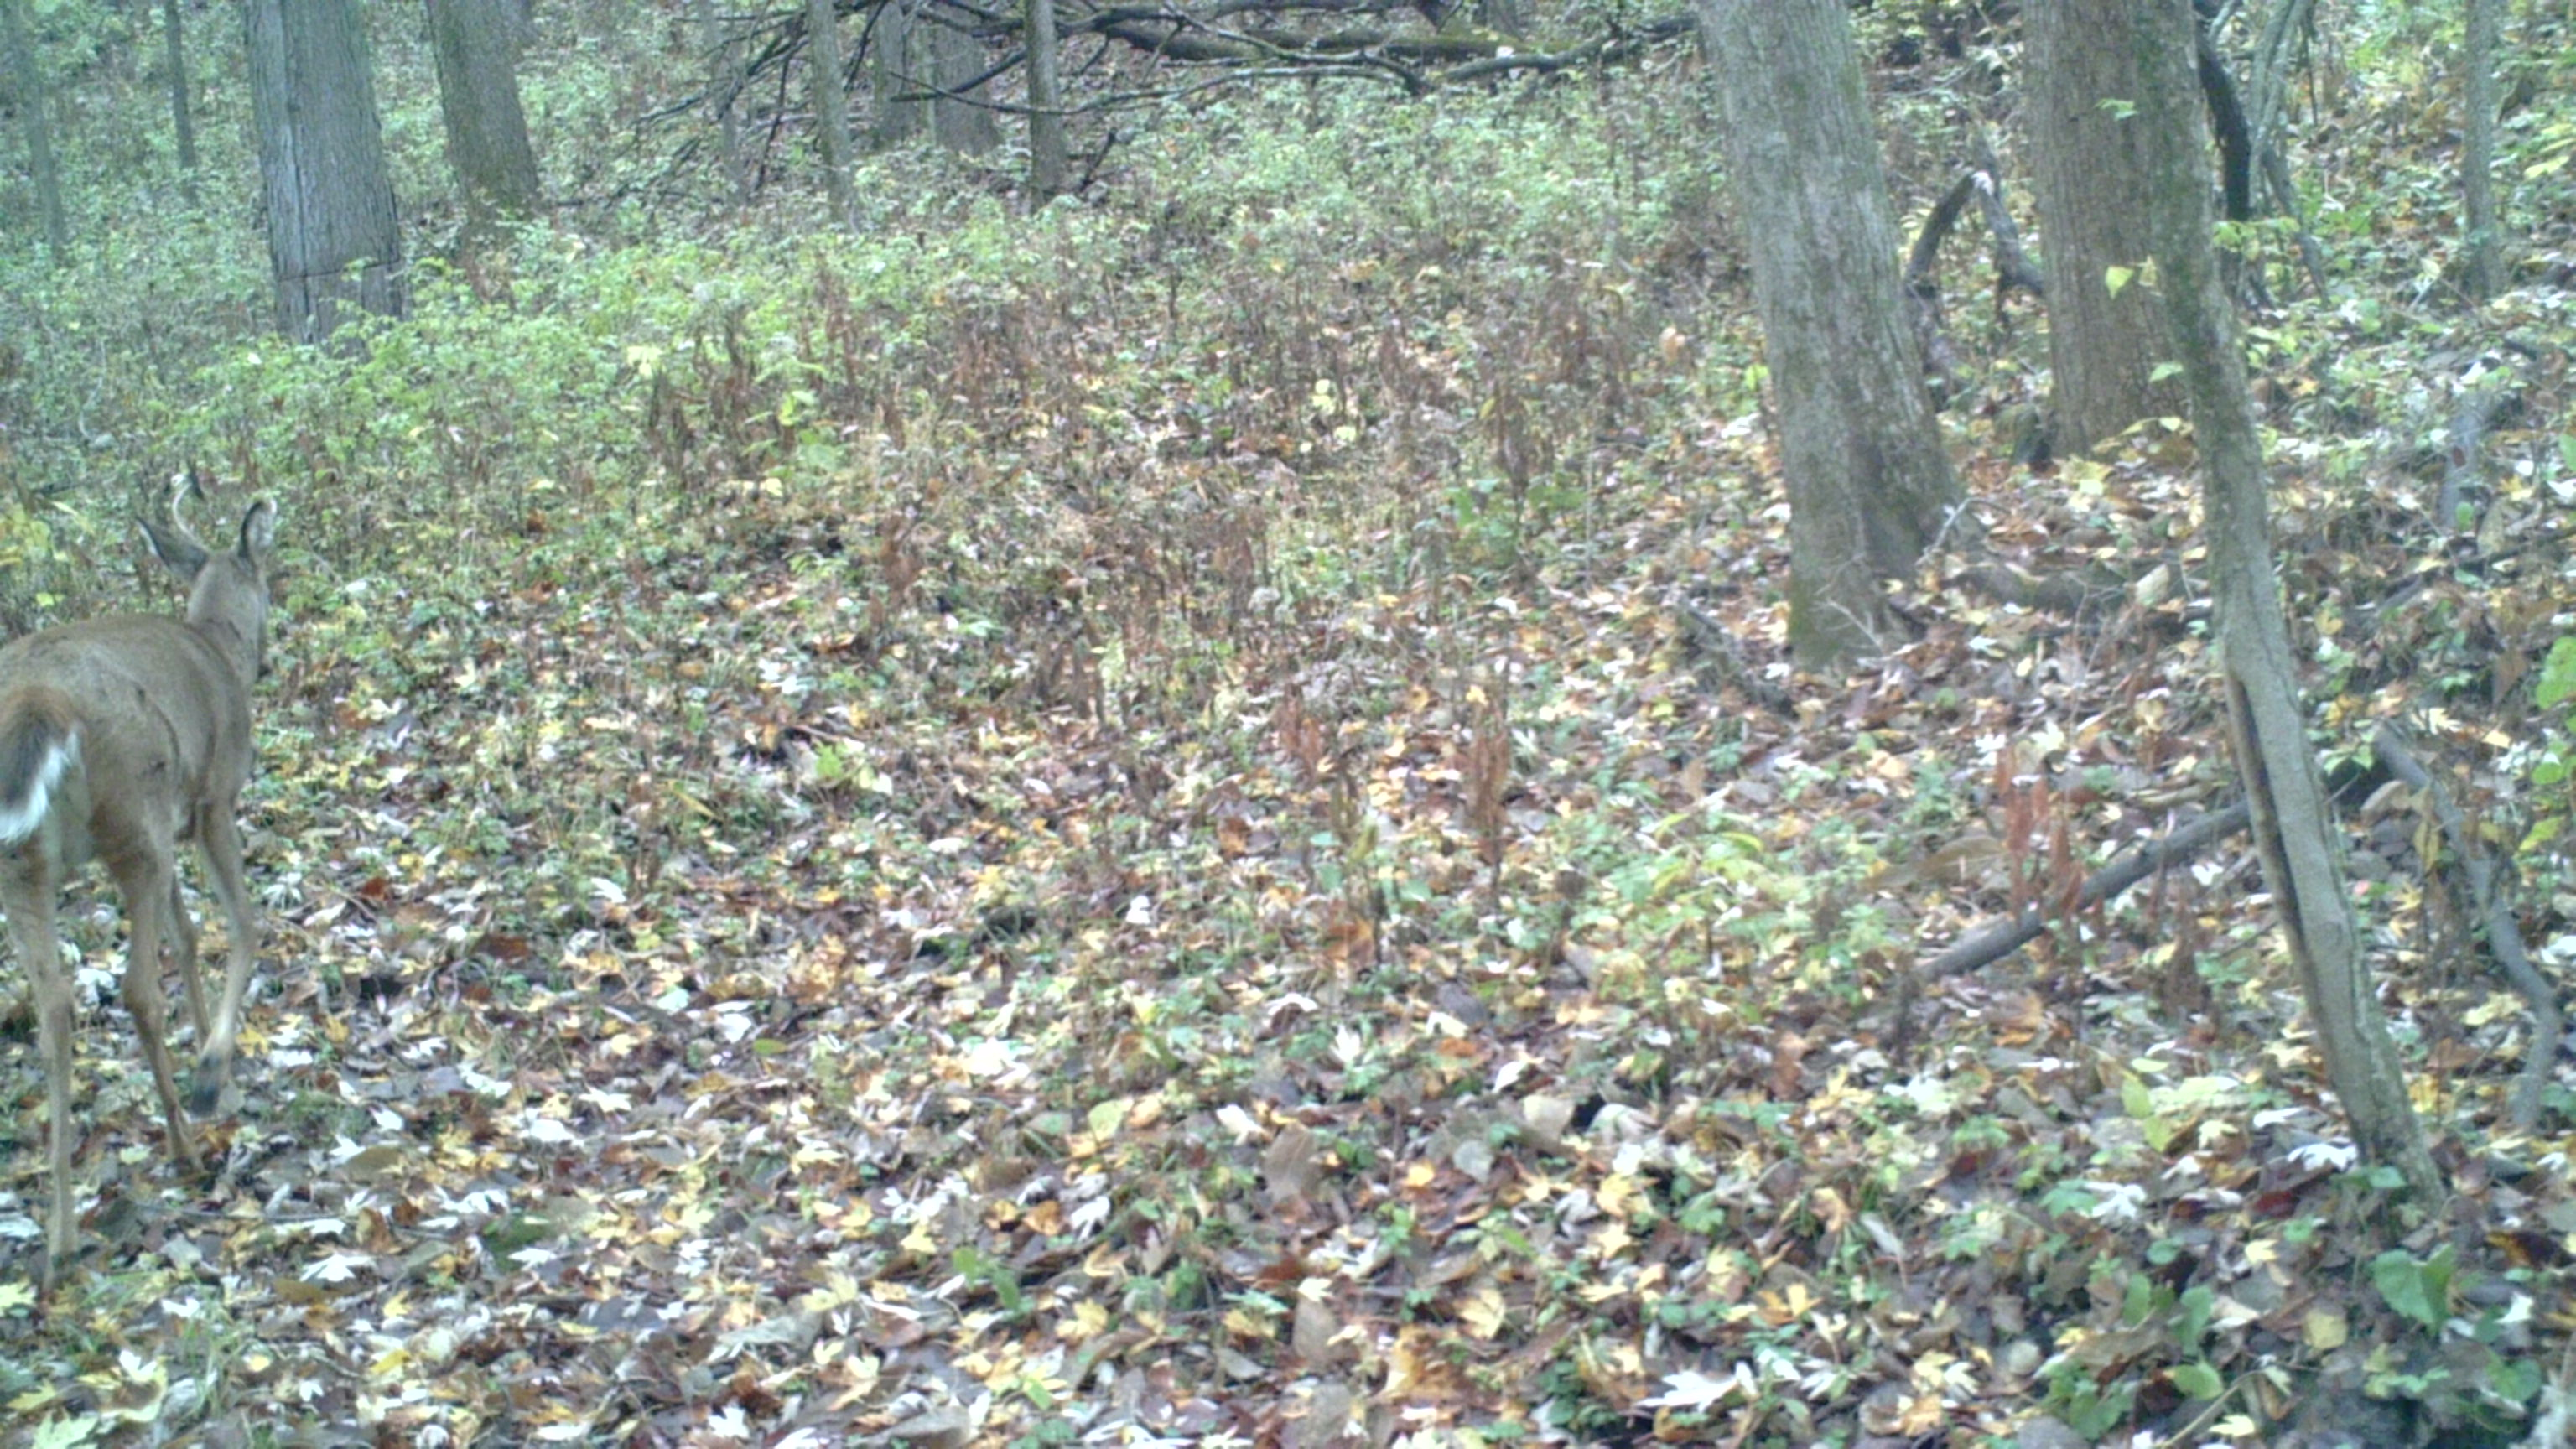DeerBuck: (1, 474, 289, 1286)
DeerBuckHead: (127, 473, 289, 679)
